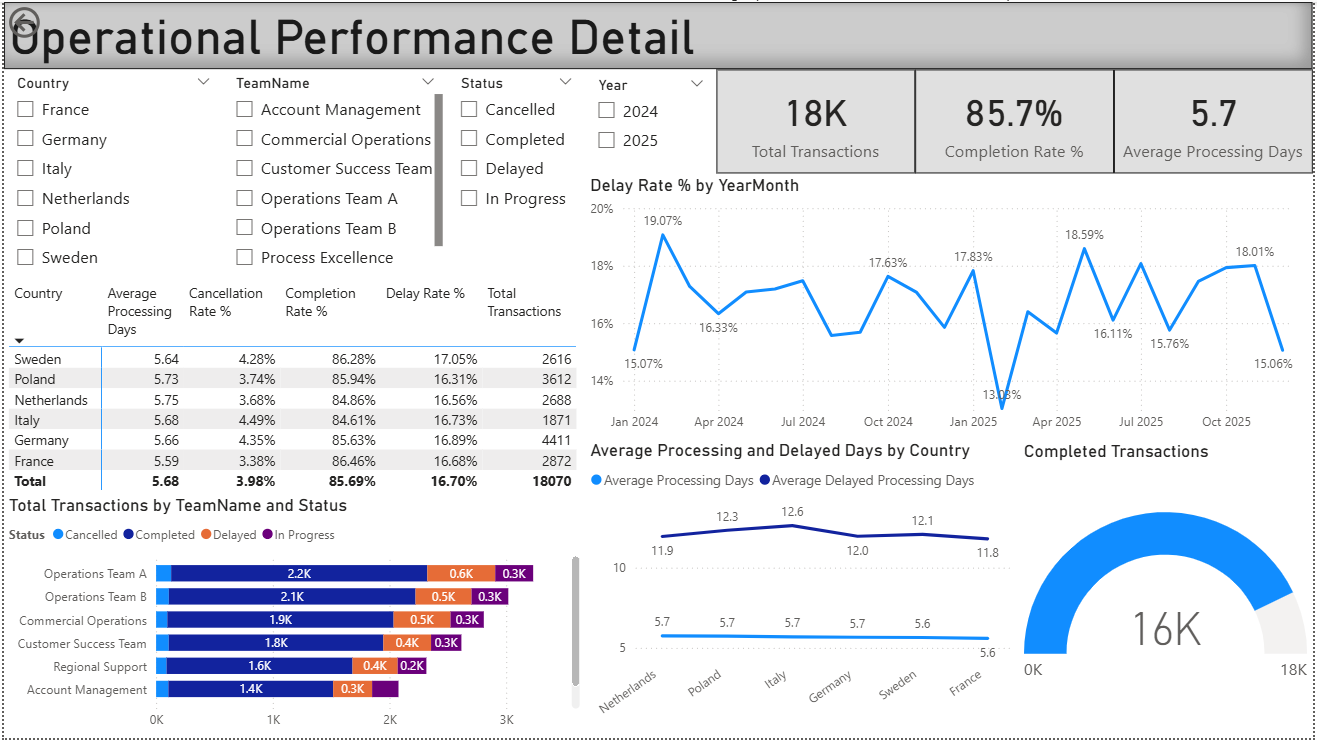

This screenshot's page, from the dashboard's own definition file:
{"tool":"powerbi","page":{"name":"Operational Performance Detail","canvas":[1280,720],"ordinal":3},"visuals":[{"type":"slicer","fields":{"Values":["Dim_Date.Year"]},"box":[568.6,67.1,128.6,101.4],"z":0},{"type":"slicer","fields":{"Values":["Fact_Operations.Status"]},"box":[434.3,65.7,134.3,202.9],"z":1000},{"type":"slicer","fields":{"Values":["Dim_Team.TeamName"]},"box":[214.3,65.7,220,202.9],"z":2000},{"type":"slicer","fields":{"Values":["Dim_Customers.Country"]},"box":[0,65.7,214.3,202.9],"z":3000},{"type":"card","fields":{"Values":["Measures (2).Completion Rate %"]},"box":[891.4,65.7,194.3,101.4],"z":4000},{"type":"card","fields":{"Values":["Measures (2).Total Transactions"]},"box":[697.1,65.7,194.3,101.4],"z":5000},{"type":"card","fields":{"Values":["Measures (2).Average Processing Days"]},"box":[1085.7,65.7,194.3,101.4],"z":6000},{"type":"textbox","title":"Operational Performance Detail (per Country)","box":[0,0,1280.3,65.7],"z":7000},{"type":"lineChart","fields":{"Category":["Dim_Date.YearMonth"],"Y":["Measures (2).Delay Rate %"]},"box":[568.6,168.6,711.4,260],"z":8000},{"type":"lineChart","title":"Average Processing and Delayed Days by Country","fields":{"Y":["Measures (2).Average Processing Days","Measures (2).Average Processing Days (Delayed)"],"Category":["Dim_Region.Country"]},"box":[568.6,428.6,424.3,291.4],"z":9000},{"type":"pivotTable","fields":{"Rows":["Dim_Region.Country"],"Values":["Measures (2).Average Processing Days","Measures (2).Cancellation Rate %","Measures (2).Completion Rate %","Measures (2).Delay Rate %","Measures (2).Total Transactions"]},"box":[0,268.6,568.6,215.7],"z":10000},{"type":"barChart","fields":{"Category":["Dim_Team.TeamName"],"Series":["Fact_Operations.Status"],"Y":["Measures (2).Total Transactions"]},"box":[0,481.4,568.6,238.6],"z":11000},{"type":"gauge","title":"Completed Transactions","fields":{"Y":["Measures (2).Completed Transactions"],"MaxValue":["Measures (2).Total Transactions"]},"box":[993,429,287,291],"z":12000},{"type":"actionButton","box":[0,0,100,40],"z":13000}]}

Visuals, with their boxes in screenshot pixels (x1, y1, x2, y2), scaled from the page's 1280x720 canvas onto the 1317x741 screenshot:
slicer - Dim_Date.Year: (x1=585, y1=69, x2=717, y2=173)
slicer - Fact_Operations.Status: (x1=447, y1=68, x2=585, y2=276)
slicer - Dim_Team.TeamName: (x1=220, y1=68, x2=447, y2=276)
slicer - Dim_Customers.Country: (x1=0, y1=68, x2=220, y2=276)
card - Measures (2).Completion Rate %: (x1=917, y1=68, x2=1117, y2=172)
card - Measures (2).Total Transactions: (x1=717, y1=68, x2=917, y2=172)
card - Measures (2).Average Processing Days: (x1=1117, y1=68, x2=1316, y2=172)
"Operational Performance Detail (per Country)" textbox: (x1=0, y1=0, x2=1316, y2=68)
lineChart - Dim_Date.YearMonth x Measures (2).Delay Rate %: (x1=585, y1=174, x2=1316, y2=441)
"Average Processing and Delayed Days by Country" lineChart: (x1=585, y1=441, x2=1022, y2=740)
pivotTable - Dim_Region.Country x Measures (2).Average Processing Days: (x1=0, y1=276, x2=585, y2=498)
barChart - Dim_Team.TeamName x Fact_Operations.Status: (x1=0, y1=495, x2=585, y2=740)
"Completed Transactions" gauge: (x1=1022, y1=442, x2=1316, y2=740)
actionButton: (x1=0, y1=0, x2=103, y2=41)
